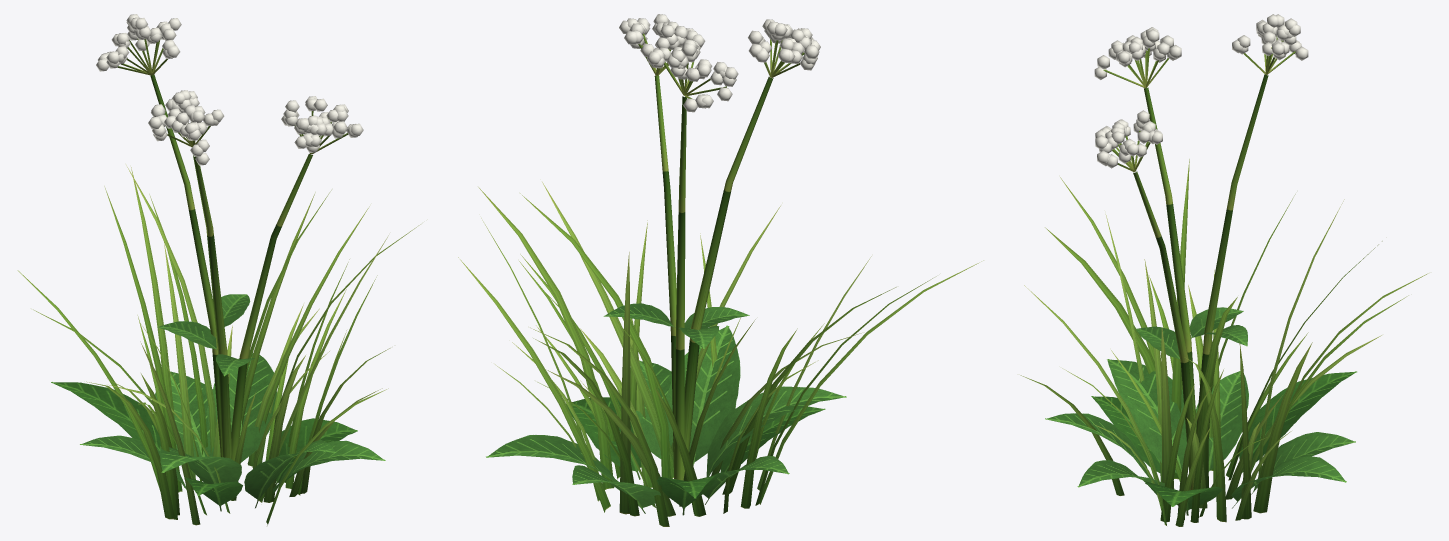
File: hierbajo_grande.gltf
3 views of the same model, side by side, from view 1: azimuth 30°, elevation 25°; view 2: azimuth 150°, elevation 25°; view 3: azimuth 270°, elevation 25° (orthographic). The views are drawn at different scales.
Parts seen in each view (by area): view 1: hierbajo_grande; view 2: hierbajo_grande; view 3: hierbajo_grande.
Boxes of the visible parts, <box> form: hierbajo_grande: <box>17,14,420,525</box>; hierbajo_grande: <box>458,14,983,526</box>; hierbajo_grande: <box>1020,14,1428,526</box>.
Bounding box in the file's own units: 3.04 × 3.27 × 2.72.
Materials: 6 (6 with a texture image).
